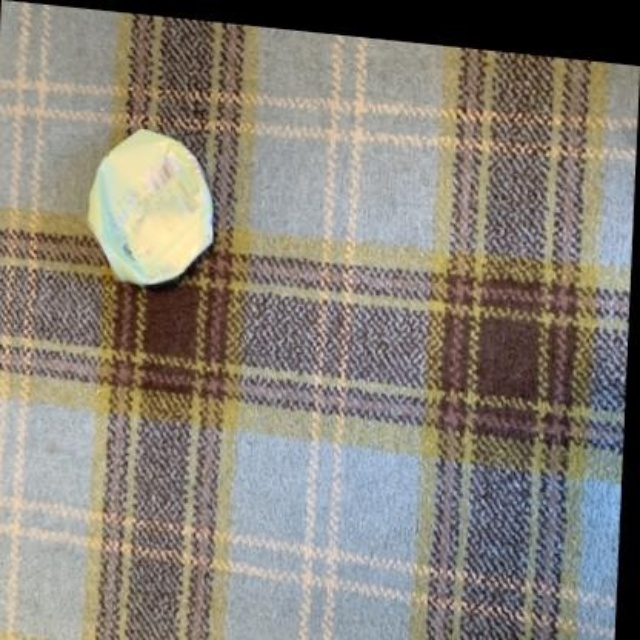trash: (88, 129, 212, 285)
